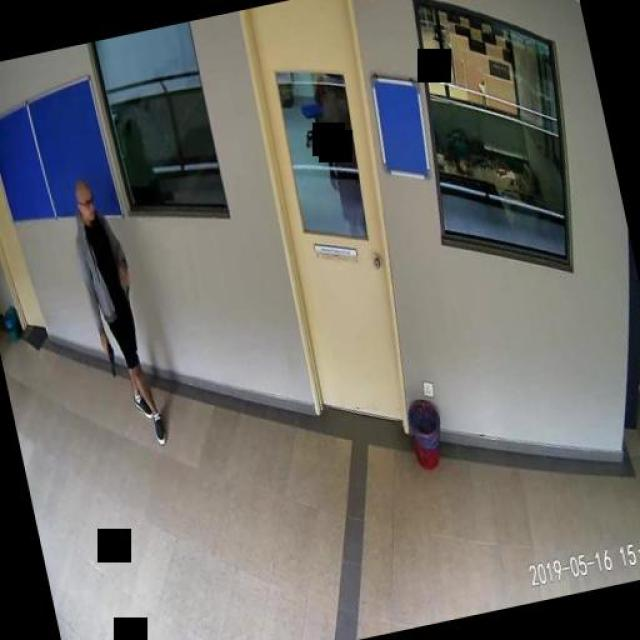gun: (100, 338, 118, 377)
